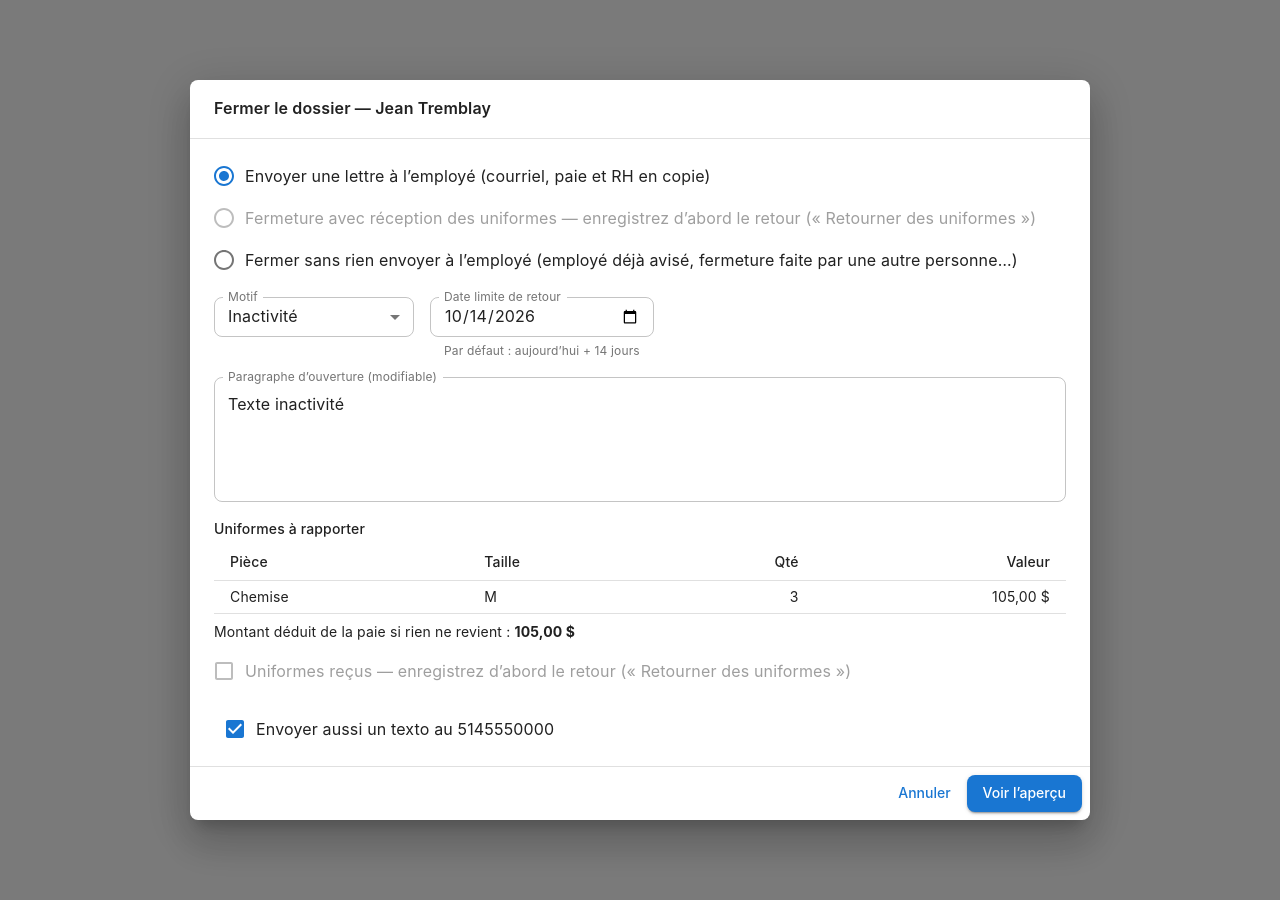
Test: FileClosureDialog › erreur d’aperçu : message du serveur affiché, reste à l’étape 1
Click the button "Voir l’aperçu" at (1024, 794), box [967, 775, 1082, 812]
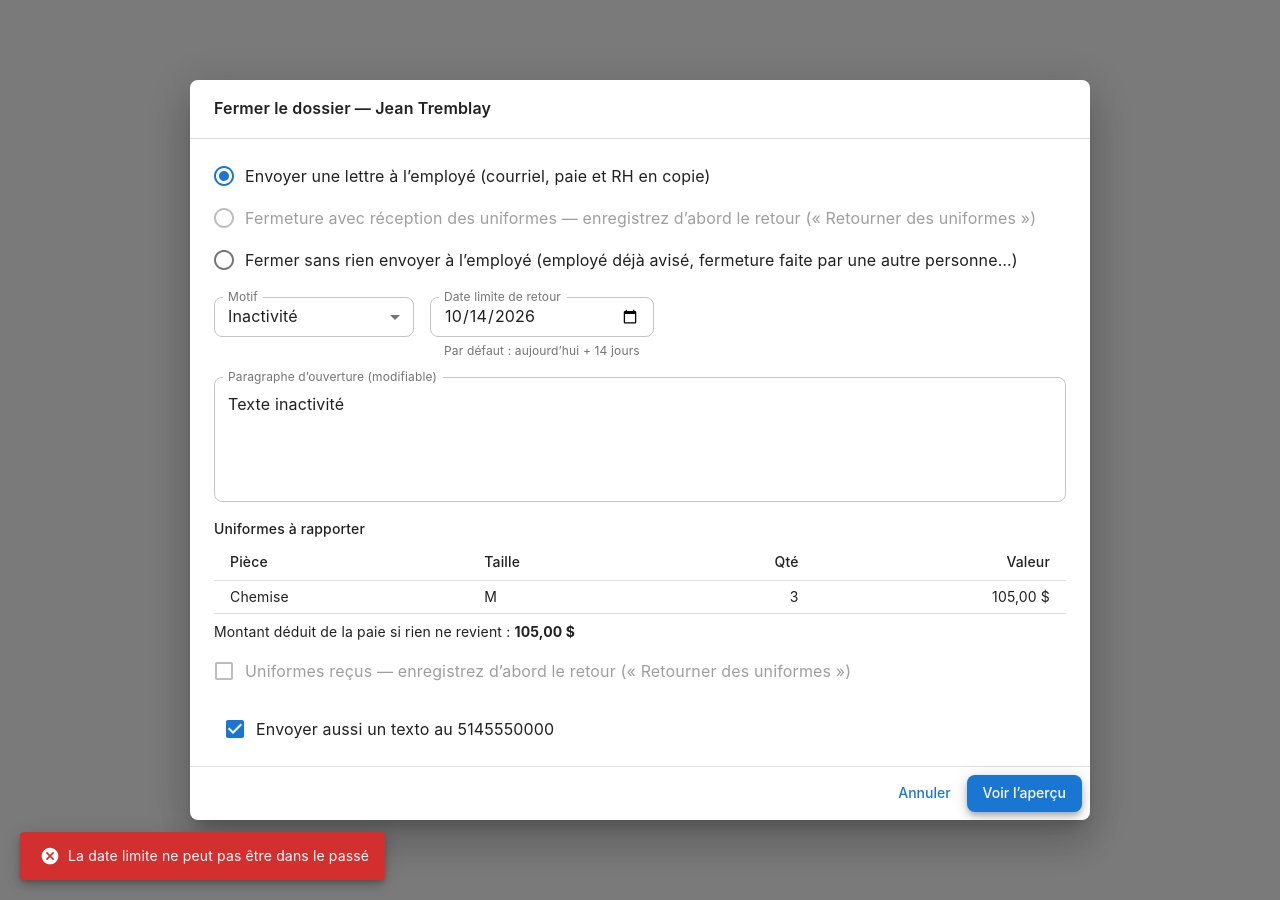
Expected: the date field labelled "Date limite de retour" is shown, [430, 297, 654, 337]
Expected: the text "La date limite ne peut pas être dans le passé" is shown, [40, 846, 369, 866]
